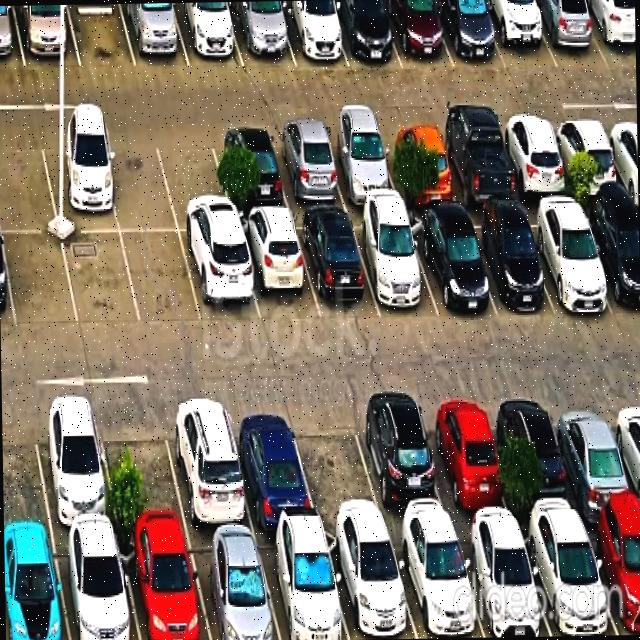empty: (289, 401, 385, 528), (96, 402, 188, 533), (154, 129, 234, 231), (100, 133, 177, 231), (62, 232, 140, 327), (121, 233, 201, 325), (2, 233, 78, 327), (1, 402, 50, 533), (0, 133, 58, 231), (67, 3, 135, 67)
occupied: (350, 397, 452, 529), (418, 395, 514, 526), (162, 397, 254, 531), (548, 393, 640, 520), (225, 401, 317, 528), (30, 401, 118, 532), (494, 393, 582, 524), (519, 521, 617, 636), (454, 527, 551, 637), (389, 528, 485, 638), (255, 531, 349, 640), (324, 530, 417, 640), (186, 534, 280, 640), (521, 204, 614, 311), (118, 533, 210, 640), (461, 212, 553, 315), (406, 214, 497, 317), (349, 214, 438, 317), (53, 534, 139, 640), (293, 213, 379, 318), (236, 215, 319, 323), (39, 133, 119, 231), (180, 232, 260, 322), (579, 204, 640, 317), (435, 123, 518, 206), (4, 535, 69, 640), (583, 517, 640, 635), (210, 128, 290, 212), (379, 125, 459, 204), (269, 128, 347, 209), (321, 127, 400, 205), (496, 119, 572, 199), (549, 118, 624, 196), (480, 0, 557, 70), (529, 0, 608, 67), (328, 0, 401, 67), (433, 0, 505, 67), (383, 0, 453, 68), (276, 0, 348, 66), (172, 2, 243, 67), (120, 3, 189, 67), (227, 1, 294, 66), (13, 4, 80, 67), (580, 0, 636, 67), (0, 5, 25, 66)
